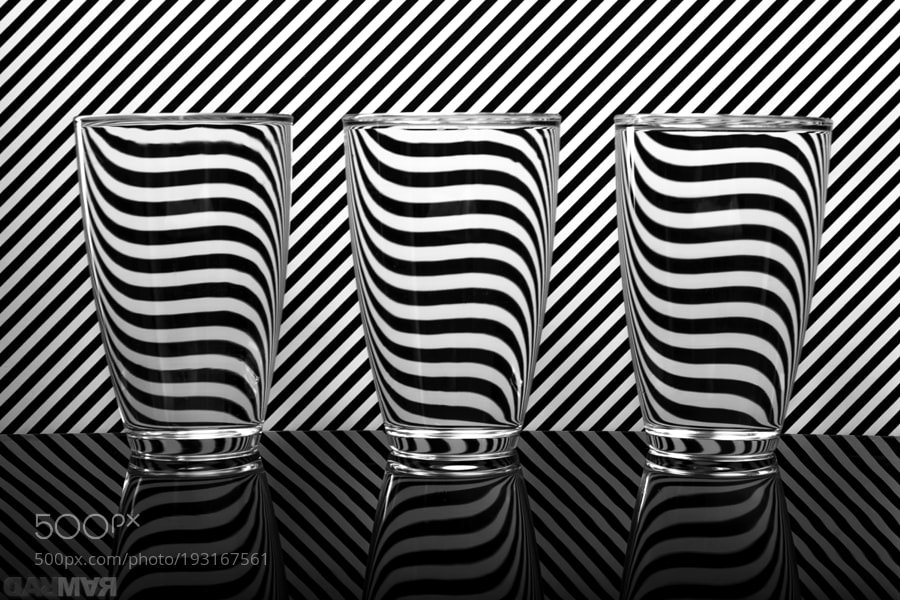glass of water: (77, 111, 282, 464)
